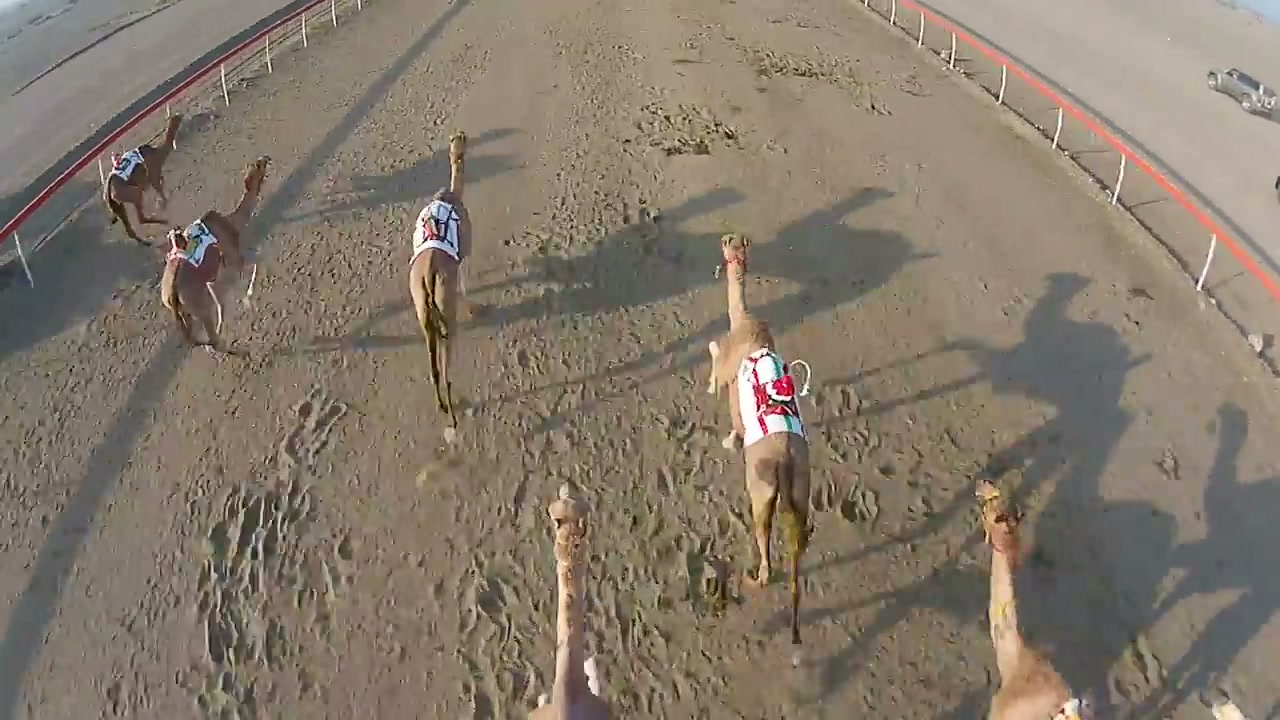animal_foot_print: (80, 367, 249, 709), (389, 413, 528, 693)
